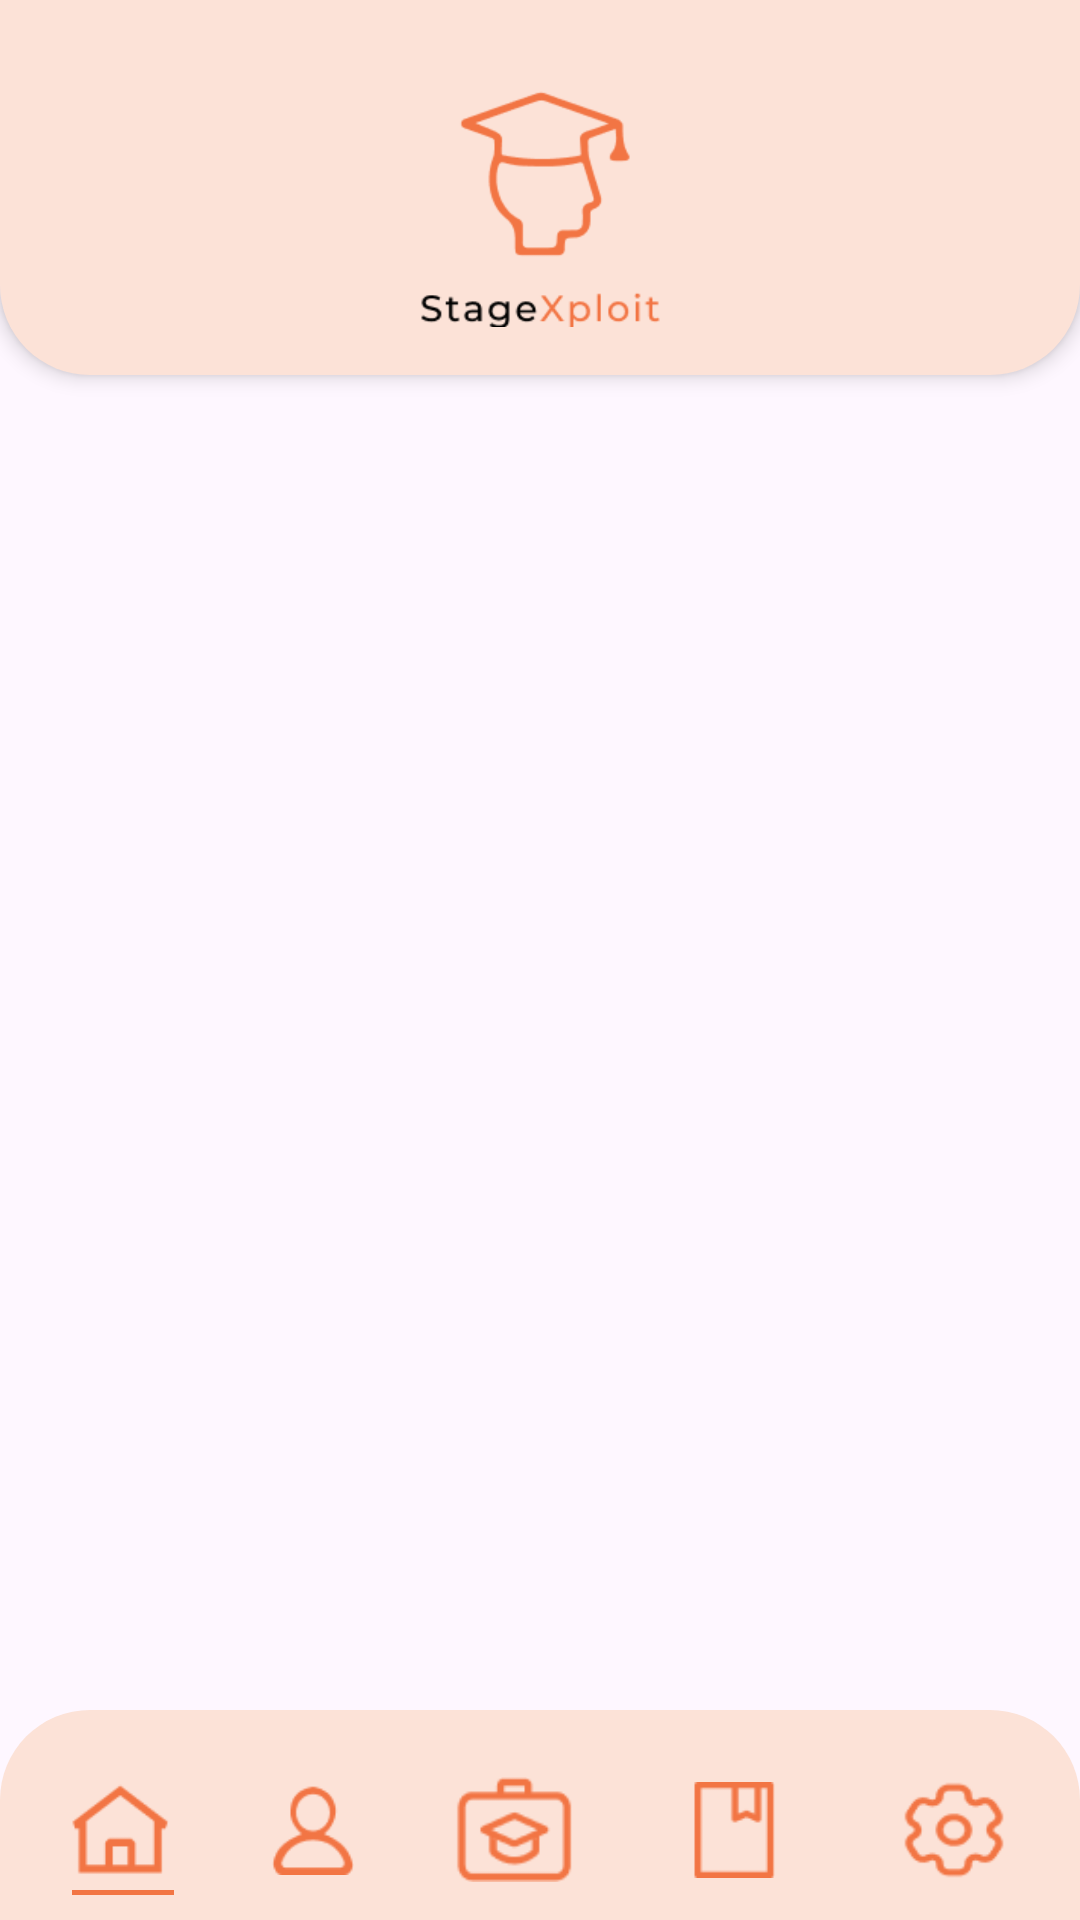

Screen size 1080 x 1920. Icon name, then its box in pixels as bbox=(x1, y1, x2, y2):
accueil: bbox=(72, 1786, 168, 1874)
parametre: bbox=(904, 1783, 1004, 1877)
profil: bbox=(273, 1786, 353, 1875)
stage: bbox=(457, 1778, 571, 1882)
